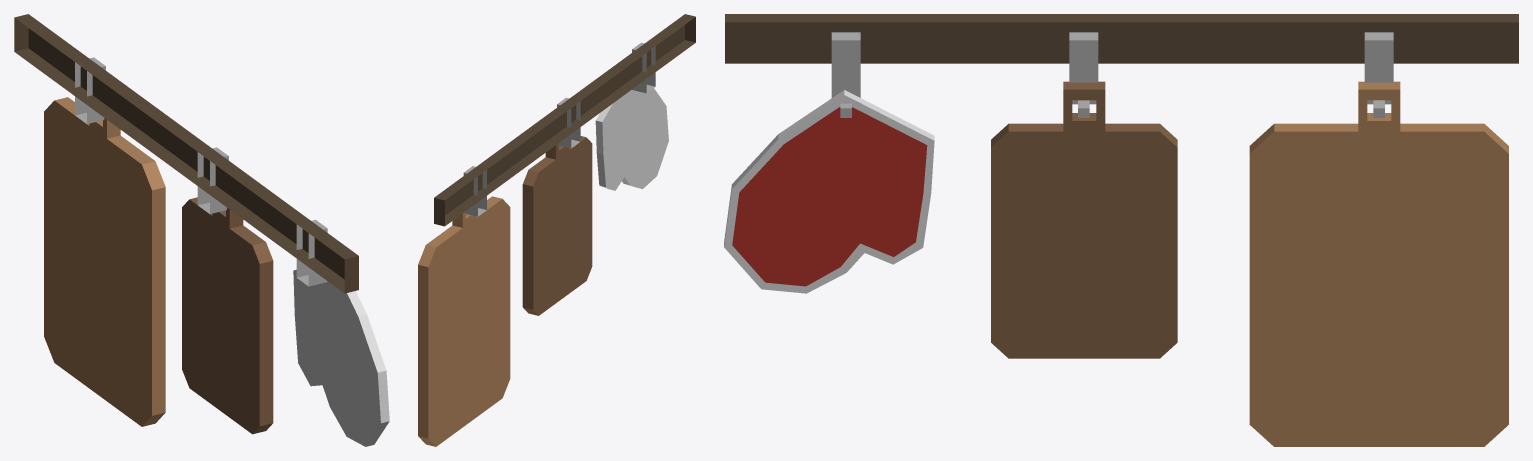
Rendered from SM_kitchenHanging_01.glb.
3 renders of one model, left to right at view 1: azimuth 30°, elevation 25°; view 2: azimuth 150°, elevation 25°; view 3: azimuth 270°, elevation 25°, orthographic. The views are drawn at different scales.
Visible parts, largest first — view 1: SM_kitchenHanging_01; view 2: SM_kitchenHanging_01; view 3: SM_kitchenHanging_01.
Boxes of the visible parts, <box> form: SM_kitchenHanging_01: <box>14,14,389,446</box>; SM_kitchenHanging_01: <box>418,14,695,446</box>; SM_kitchenHanging_01: <box>724,14,1518,446</box>.
Size of the model in its own units: 0.0842 by 0.5199 by 0.9138.
1 material, 1 textured.
